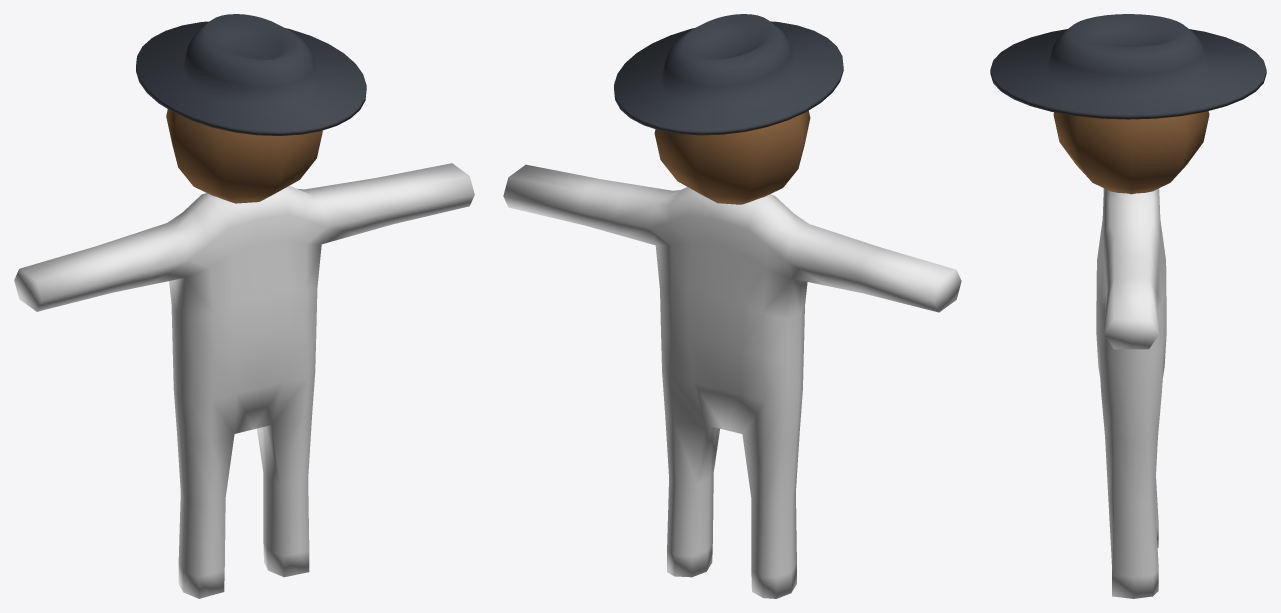
File: Main Character 1.fbx
3 renders of one model, left to right at view 1: azimuth 30°, elevation 25°; view 2: azimuth 150°, elevation 25°; view 3: azimuth 270°, elevation 25°, orthographic.
Visible parts, largest first — view 1: Character 1; view 2: Character 1; view 3: Character 1.
Boxes of the visible parts, x1=… form: Character 1: x1=14, y1=14, x2=474, y2=598; Character 1: x1=503, y1=14, x2=961, y2=598; Character 1: x1=990, y1=14, x2=1266, y2=598.
Size of the model in its own units: 224 by 268 by 124.
